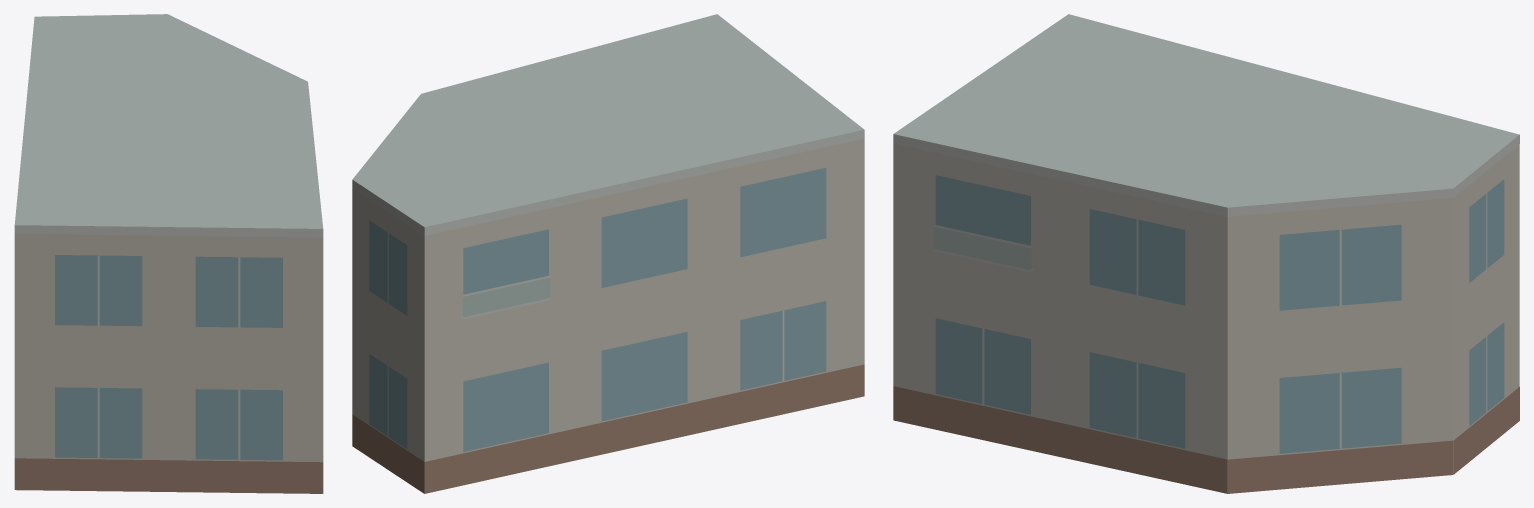
File: survey-upis-32500840.glb
The picture shows the model from 3 angles, left to right: view 1: azimuth 30°, elevation 25°; view 2: azimuth 150°, elevation 25°; view 3: azimuth 270°, elevation 25°; orthographic projection. The views are drawn at different scales.
Parts seen in each view (by area): view 1: survey-upis-32500840.tmp; view 2: survey-upis-32500840.tmp; view 3: survey-upis-32500840.tmp.
Boxes of the visible parts, x1=… form: survey-upis-32500840.tmp: x1=14, y1=14, x2=323, y2=493; survey-upis-32500840.tmp: x1=352, y1=14, x2=864, y2=493; survey-upis-32500840.tmp: x1=893, y1=14, x2=1519, y2=493.
Bounding box in the file's own units: 10.89 × 7.5 × 14.88.
